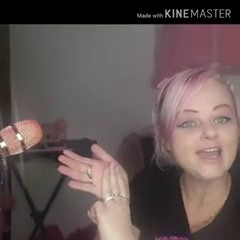M: (48, 138, 150, 238)
